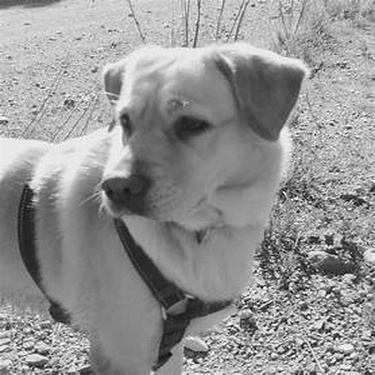dog: (3, 38, 318, 373)
